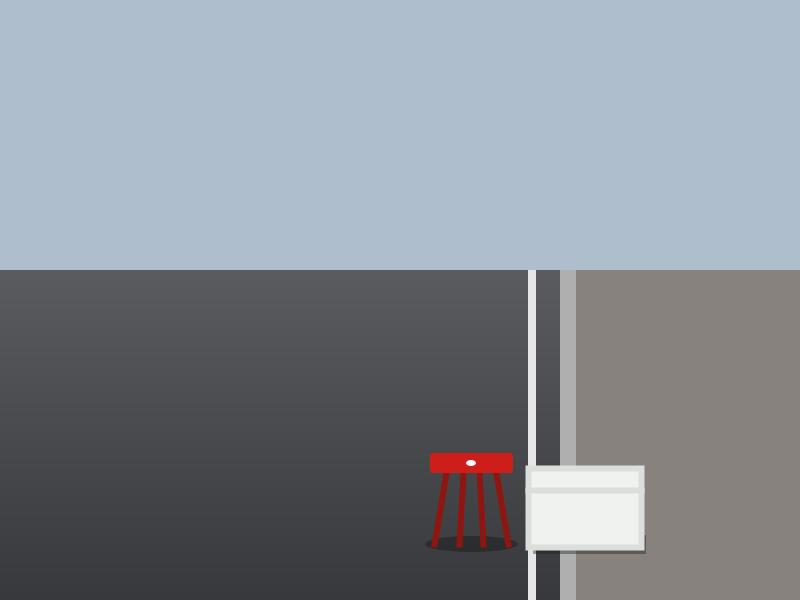ROAD_OBSTACLE: (528, 468, 641, 547), (430, 453, 513, 544)
